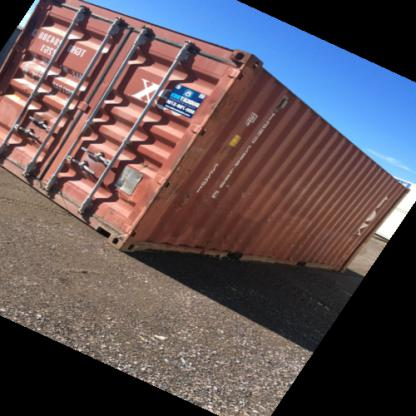Damage: (165, 142, 208, 180), (194, 98, 238, 134), (224, 67, 258, 91), (217, 244, 248, 266), (174, 190, 198, 216), (135, 191, 173, 207), (232, 187, 252, 207)
